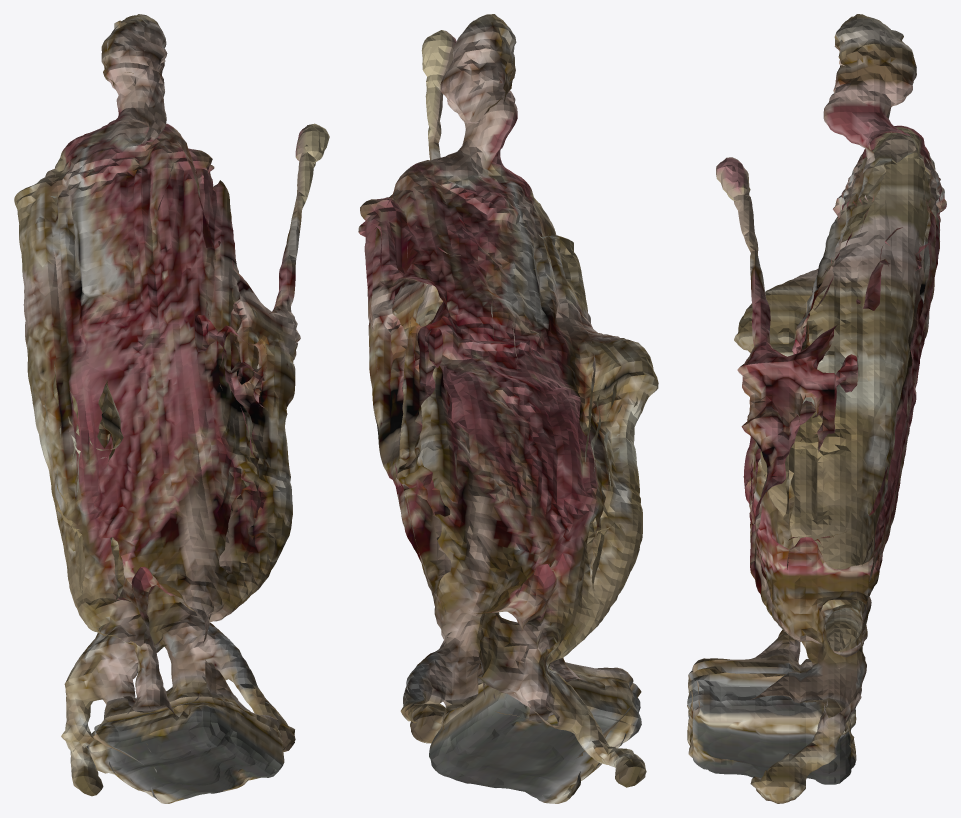
Rendered from caesar_throne_clean.glb.
3 renders of one model, left to right at view 1: azimuth 30°, elevation 25°; view 2: azimuth 150°, elevation 25°; view 3: azimuth 270°, elevation 25°, orthographic. The views are drawn at different scales.
Visible parts, largest first — view 1: world; view 2: world; view 3: world.
Boxes of the visible parts, x1,y1,x2,y2 form: world: [14, 14, 329, 803]; world: [358, 14, 658, 803]; world: [687, 14, 946, 803].
Bounding box in the file's own units: 0.3242 × 0.987 × 0.3126.
